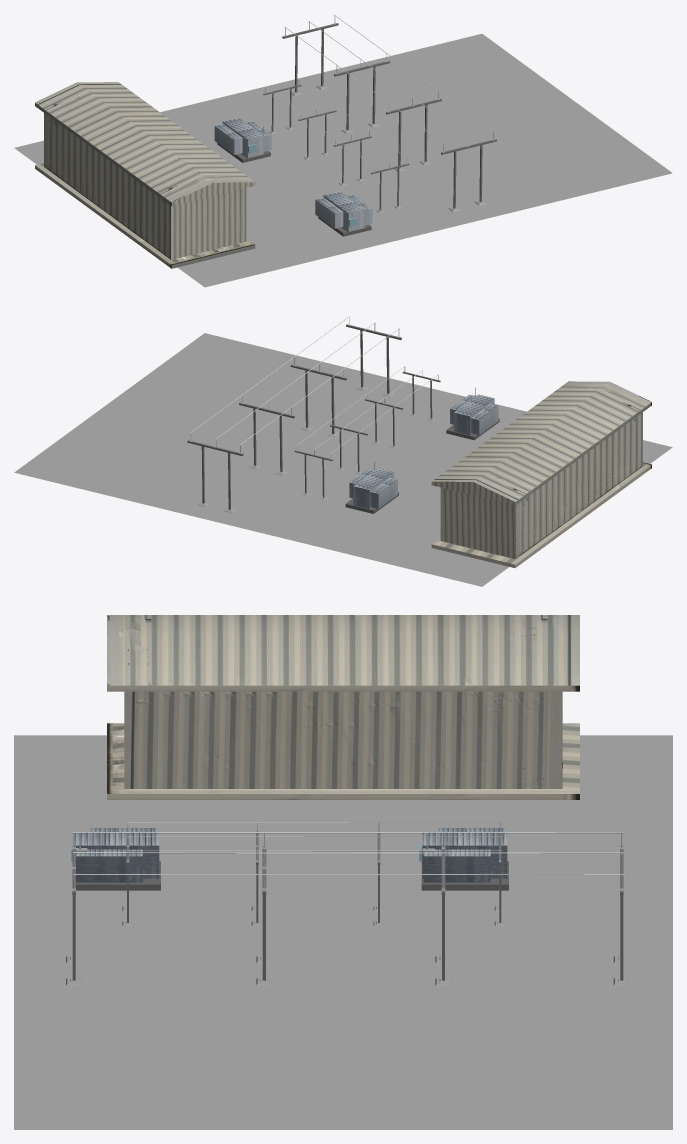
File: sub_station.fbx
3 views of the same model, one above another, from view 1: azimuth 30°, elevation 25°; view 2: azimuth 150°, elevation 25°; view 3: azimuth 270°, elevation 25° (orthographic). The views are drawn at different scales.
Visible parts, largest first — view 1: base_plant, container_electrical, centre_unit1, centre_unit, unit_box_3, unit_box_2; view 2: base_plant, container_electrical, centre_unit1, centre_unit, unit_box_3, unit_box_2; view 3: base_plant, container_electrical, unit_box1, unit_box, centre_unit, centre_unit1, wire_pole_horiz3, wire_pole_horiz4.
Part boxes in pixels (left/top/right/bottom): base_plant: left=14, top=34, right=672, bottom=287; container_electrical: left=35, top=82, right=255, bottom=268; centre_unit1: left=323, top=191, right=364, bottom=231; centre_unit: left=222, top=117, right=263, bottom=158; unit_box_3: left=315, top=197, right=343, bottom=228; unit_box_2: left=214, top=124, right=242, bottom=154; base_plant: left=14, top=333, right=672, bottom=586; container_electrical: left=431, top=381, right=651, bottom=567; centre_unit1: left=453, top=394, right=494, bottom=435; centre_unit: left=353, top=468, right=393, bottom=508; unit_box_3: left=470, top=404, right=498, bottom=434; unit_box_2: left=370, top=477, right=397, bottom=508; base_plant: left=14, top=735, right=672, bottom=1129; container_electrical: left=107, top=615, right=579, bottom=799; unit_box1: left=76, top=849, right=142, bottom=882; unit_box: left=423, top=849, right=490, bottom=882; centre_unit: left=422, top=832, right=507, bottom=878; centre_unit1: left=74, top=832, right=159, bottom=878; wire_pole_horiz3: left=73, top=852, right=624, bottom=853; wire_pole_horiz4: left=73, top=832, right=624, bottom=833.
Bounding box in the file's own units: 8075 × 1244 × 5625.
Materials: 8 (3 with a texture image).
